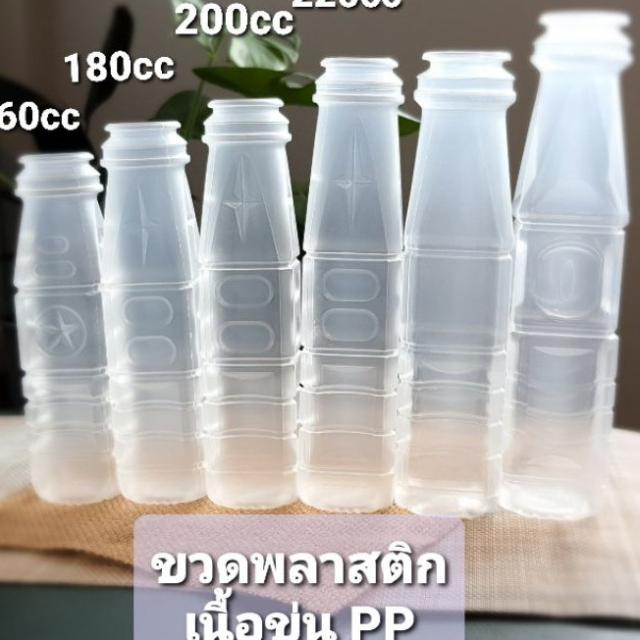Single-Use-Plastic: (501, 11, 631, 519), (395, 51, 515, 517), (298, 58, 404, 512), (200, 99, 299, 508), (101, 121, 205, 503), (14, 152, 119, 504)
